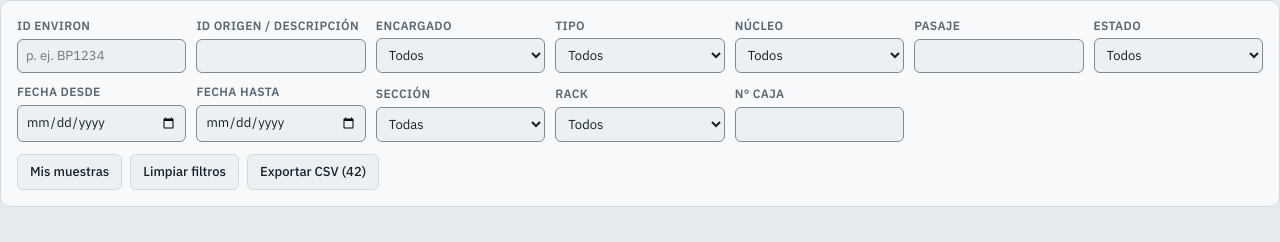
Test case: FiltersBar › un error del export se muestra inline y no borra la tabla
Click the button "Exportar CSV (42)". click: (313, 172)
box: [247,154,379,190]
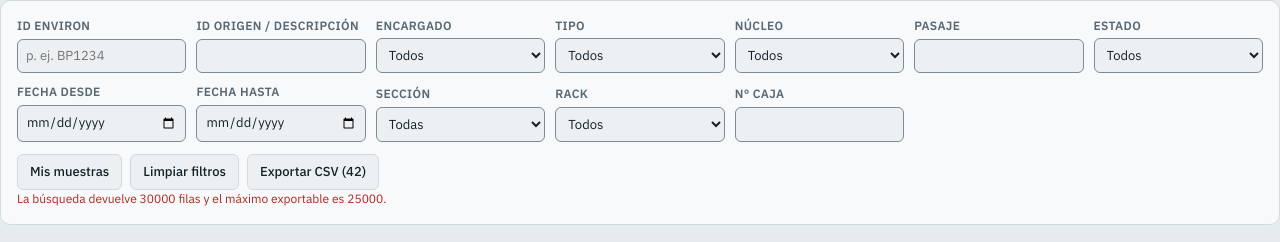
Now the message shows "máximo exportable", box [17,192,386,206]
